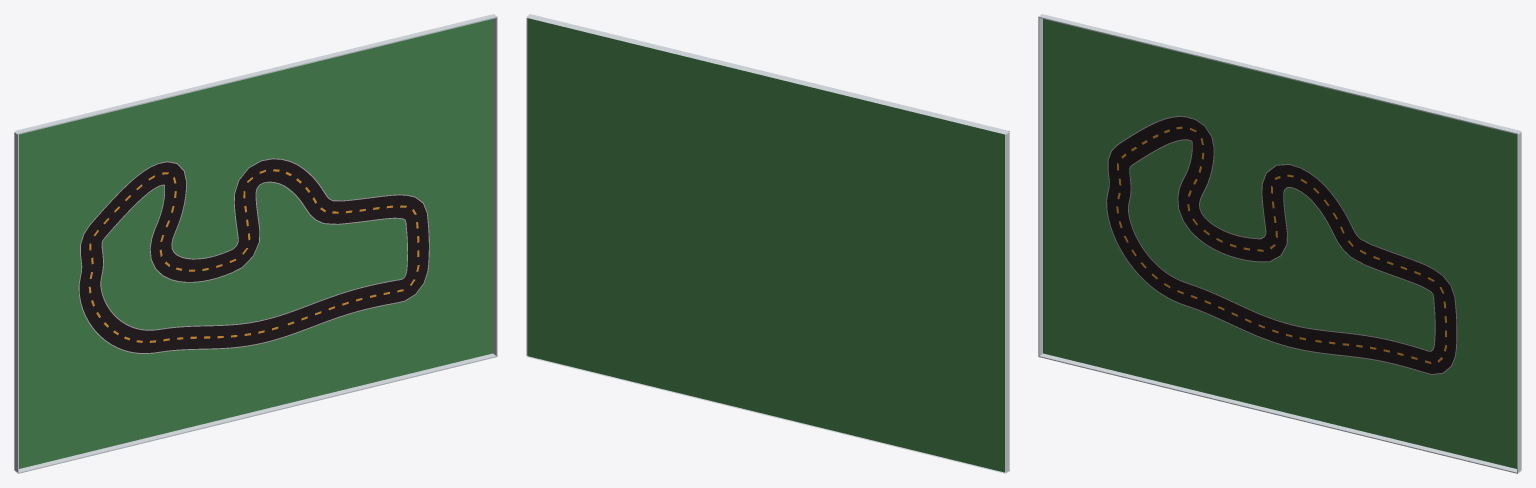
Rendered from track.obj.
3 renders of one model, left to right at view 1: azimuth 30°, elevation 25°; view 2: azimuth 150°, elevation 25°; view 3: azimuth 330°, elevation 25°, orthographic.
Size of the model in its own units: 22.7 by 15.39 by 0.3.
5 materials, 5 textured.
